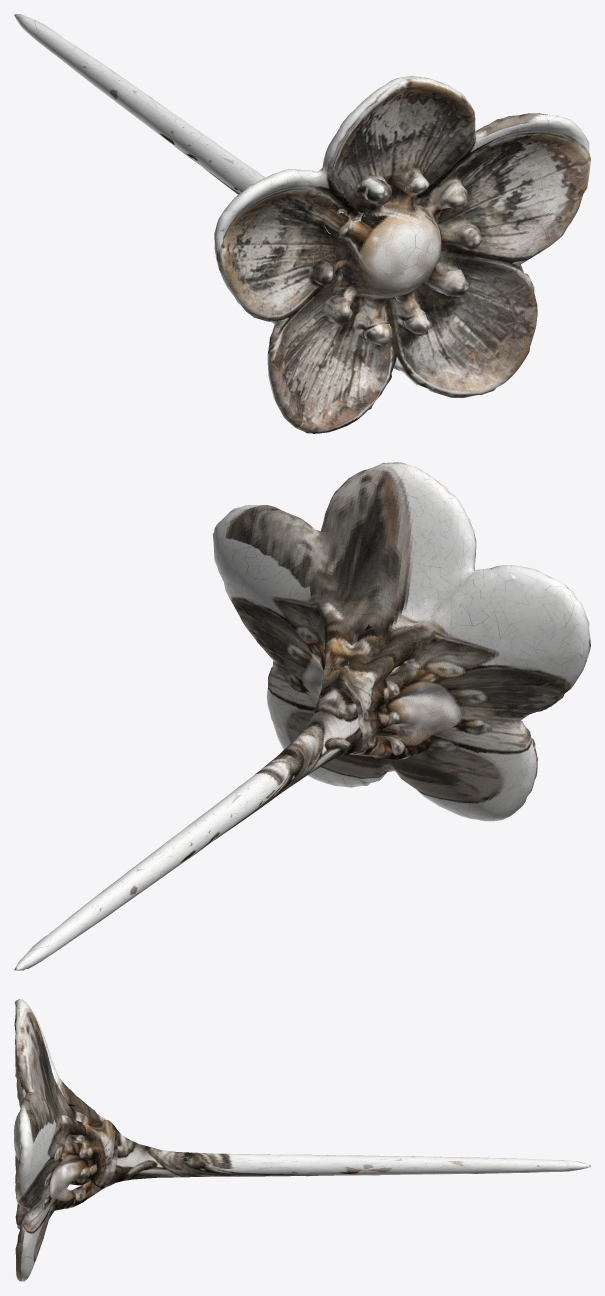
Rendered from item_hairpin.glb.
The picture shows the model from 3 angles, top to bottom: view 1: azimuth 30°, elevation 25°; view 2: azimuth 150°, elevation 25°; view 3: azimuth 270°, elevation 25°; orthographic projection. The views are drawn at different scales.
Parts seen in each view (by area): view 1: geometry_0; view 2: geometry_0; view 3: geometry_0.
Boxes of the visible parts, x1,y1,x2,y2 form: geometry_0: (14,14,590,433); geometry_0: (14,462,590,970); geometry_0: (14,999,590,1281).
Bounding box in the file's own units: 1.08 × 0.9301 × 1.97.
1 material, 1 textured.
